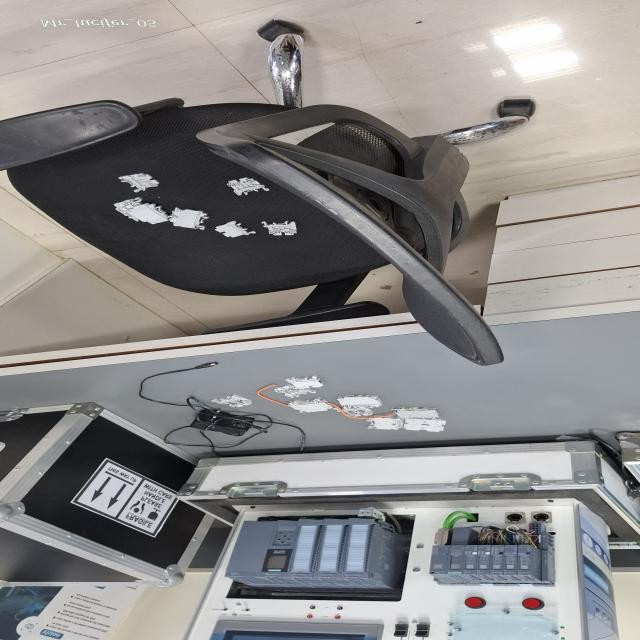Inverted: (213, 220, 258, 238)
Pass: (258, 218, 298, 236)
Reject: (225, 177, 272, 197), (115, 173, 161, 193)
